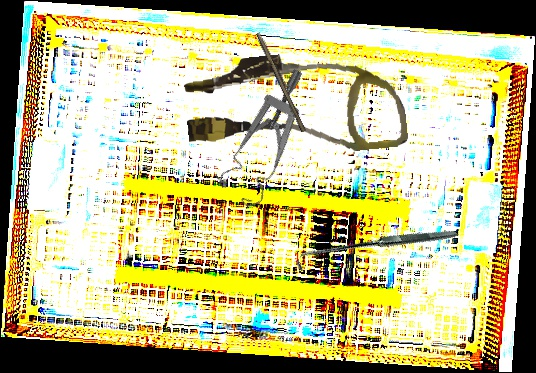Cannula: (181, 41, 409, 169)
Hook Surgical: (294, 169, 458, 331)
Scalpel Handle: (254, 31, 309, 133)
Speculum: (194, 67, 349, 215)
